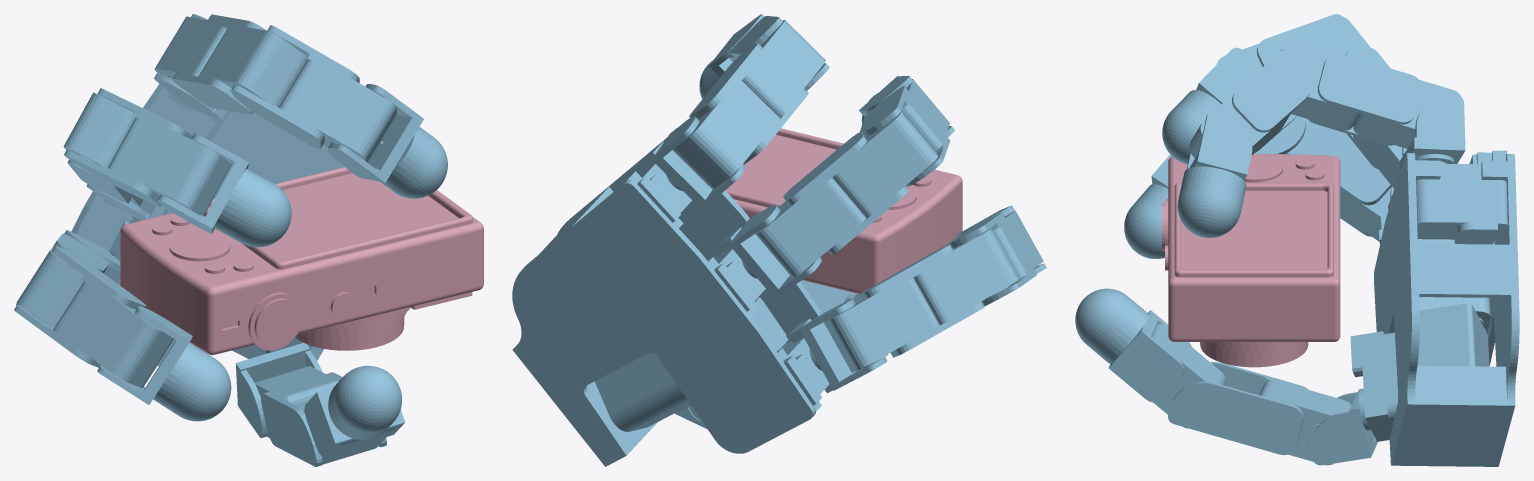
3 renders of one model, left to right at view 1: azimuth 30°, elevation 25°; view 2: azimuth 150°, elevation 25°; view 3: azimuth 270°, elevation 25°, orthographic. The views are drawn at different scales.
Parts seen in each view (by area): view 1: world, camera.stl; view 2: world, camera.stl; view 3: world, camera.stl.
Boxes of the visible parts, <box> form: world: <box>14,14,447,466</box>; camera.stl: <box>120,167,483,355</box>; world: <box>512,14,1046,466</box>; camera.stl: <box>622,128,962,293</box>; world: <box>1075,14,1519,466</box>; camera.stl: <box>1162,154,1340,367</box>.
Size of the model in its own units: 0.1764 by 0.1666 by 0.1671.
